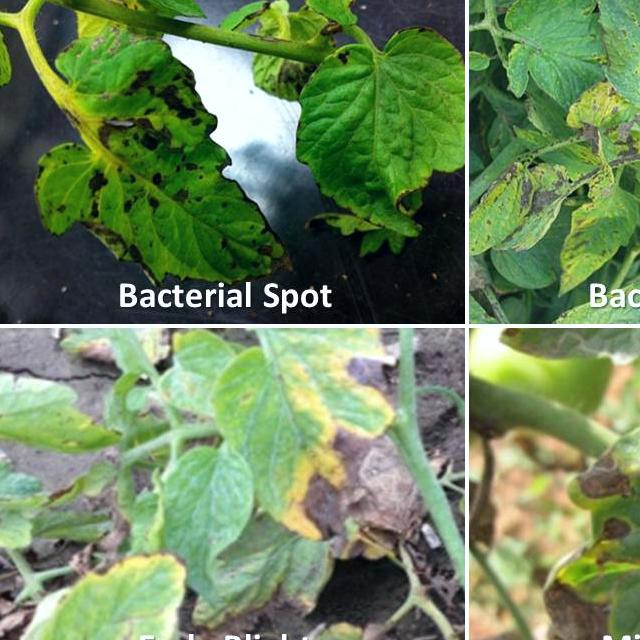Tomato Early blight leaf: (30, 339, 411, 640), (30, 37, 287, 305), (268, 35, 463, 266), (584, 0, 640, 137), (627, 131, 640, 319)
